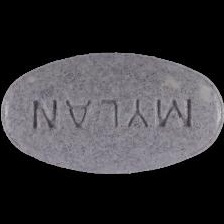51079-978: (0, 0, 224, 224)
